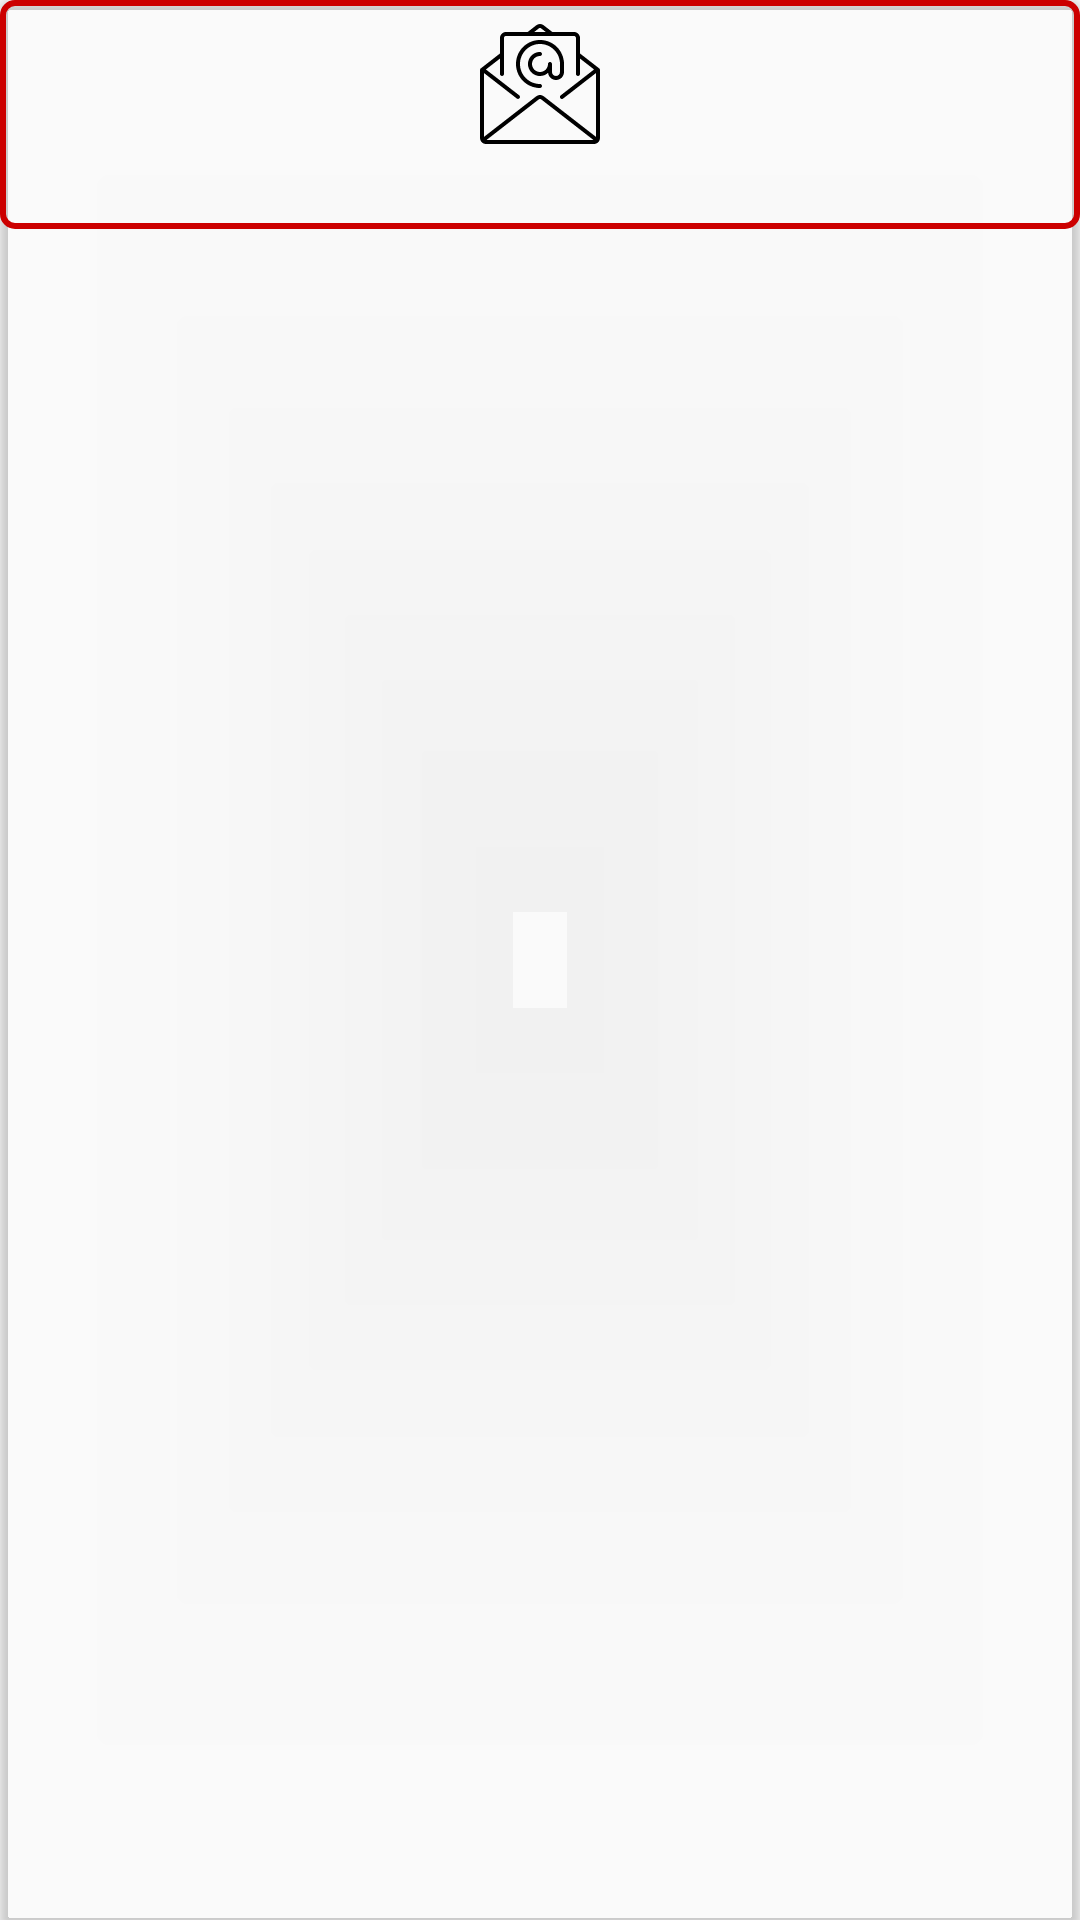

Where to tap for icons on this 1080×1920 app screen, as (x=x, y=y):
email: (x=540, y=84)
